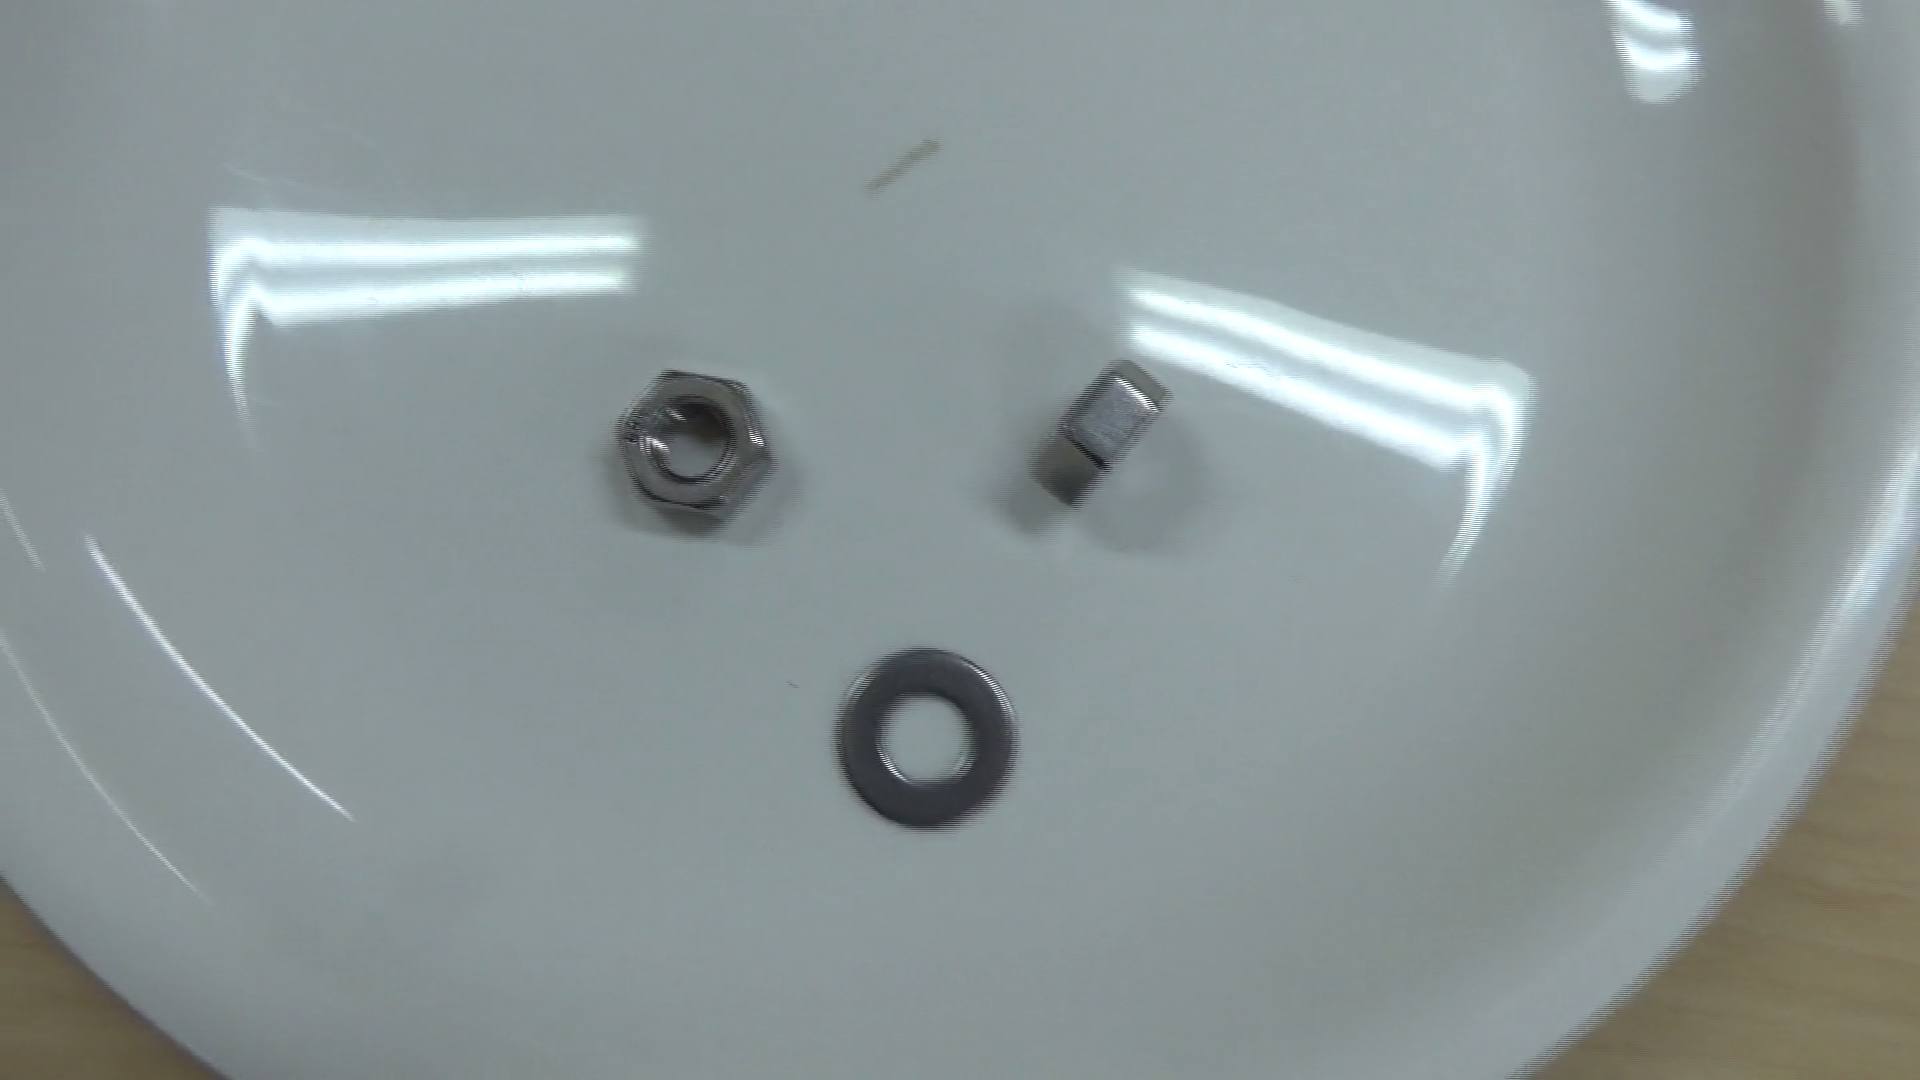nut: (599, 352, 786, 538), (1013, 336, 1180, 524)
washer: (825, 637, 1031, 837)
